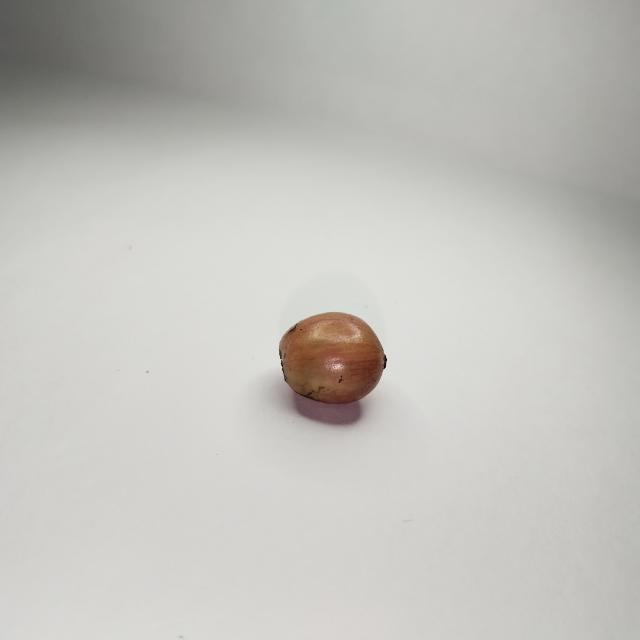Sano: (279, 312, 386, 406)
